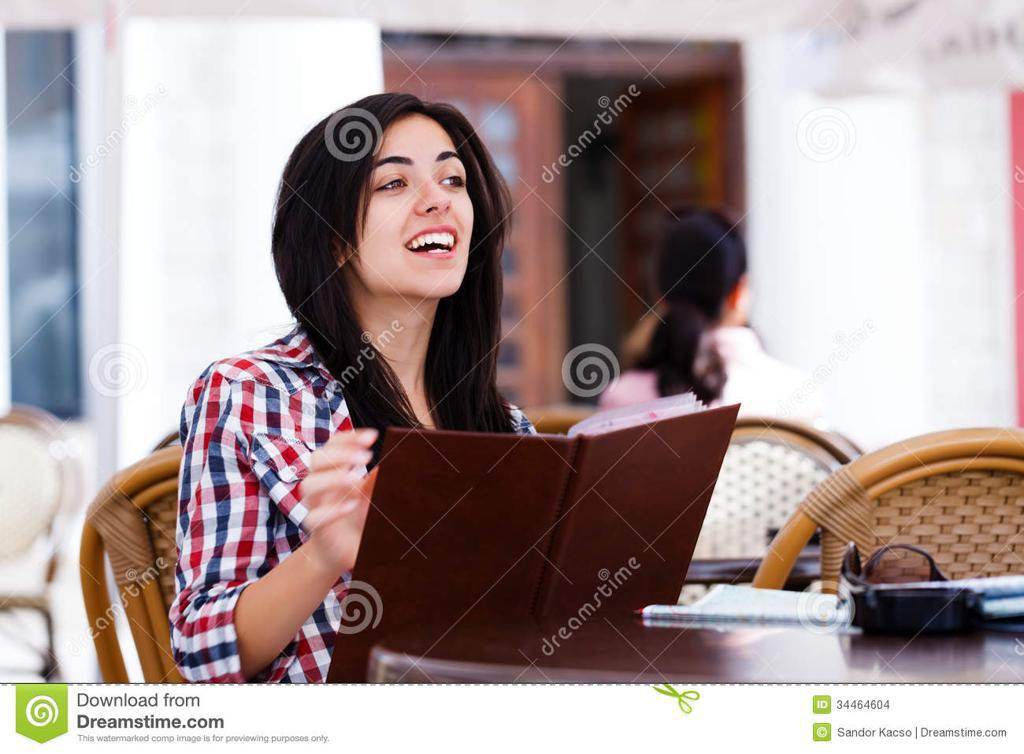face: (355, 113, 479, 293)
